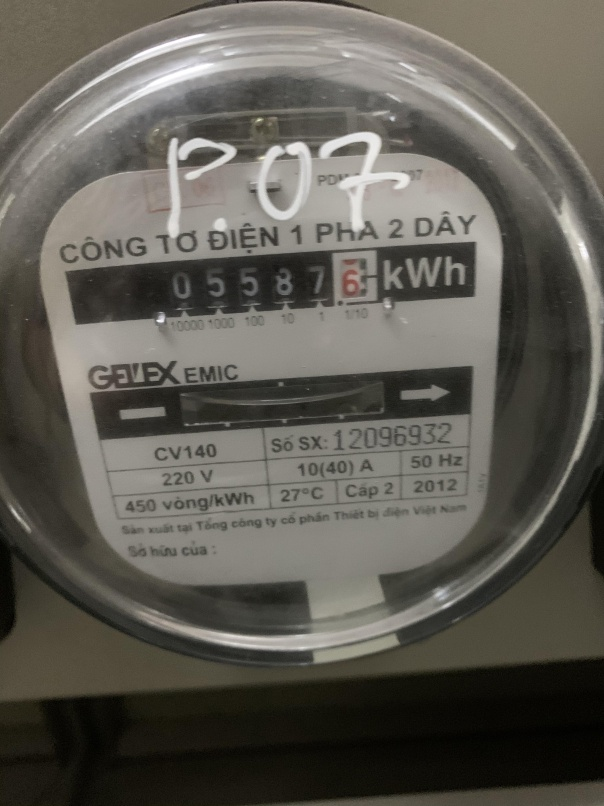counter: (61, 243, 490, 324)
electricity_meter: (1, 7, 604, 676)
